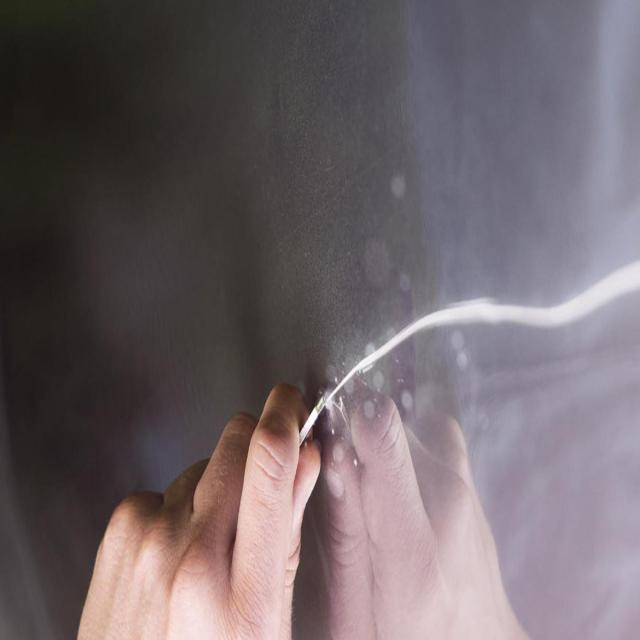scratch: (323, 259, 624, 418)
